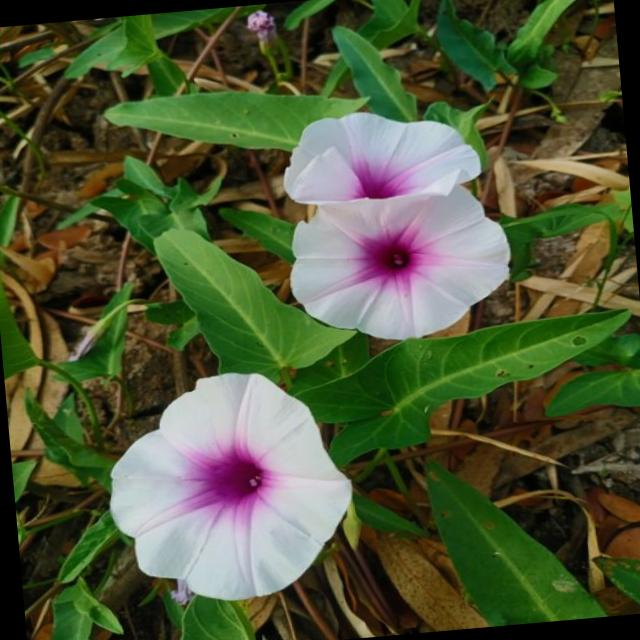ipomoea: (94, 360, 364, 613), (278, 179, 520, 352), (273, 99, 487, 215)
